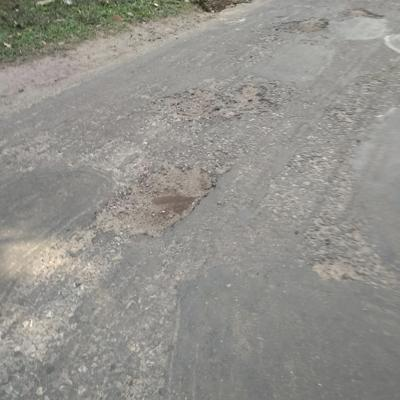Pothole: (97, 155, 211, 234), (165, 83, 281, 128), (268, 0, 338, 55)
